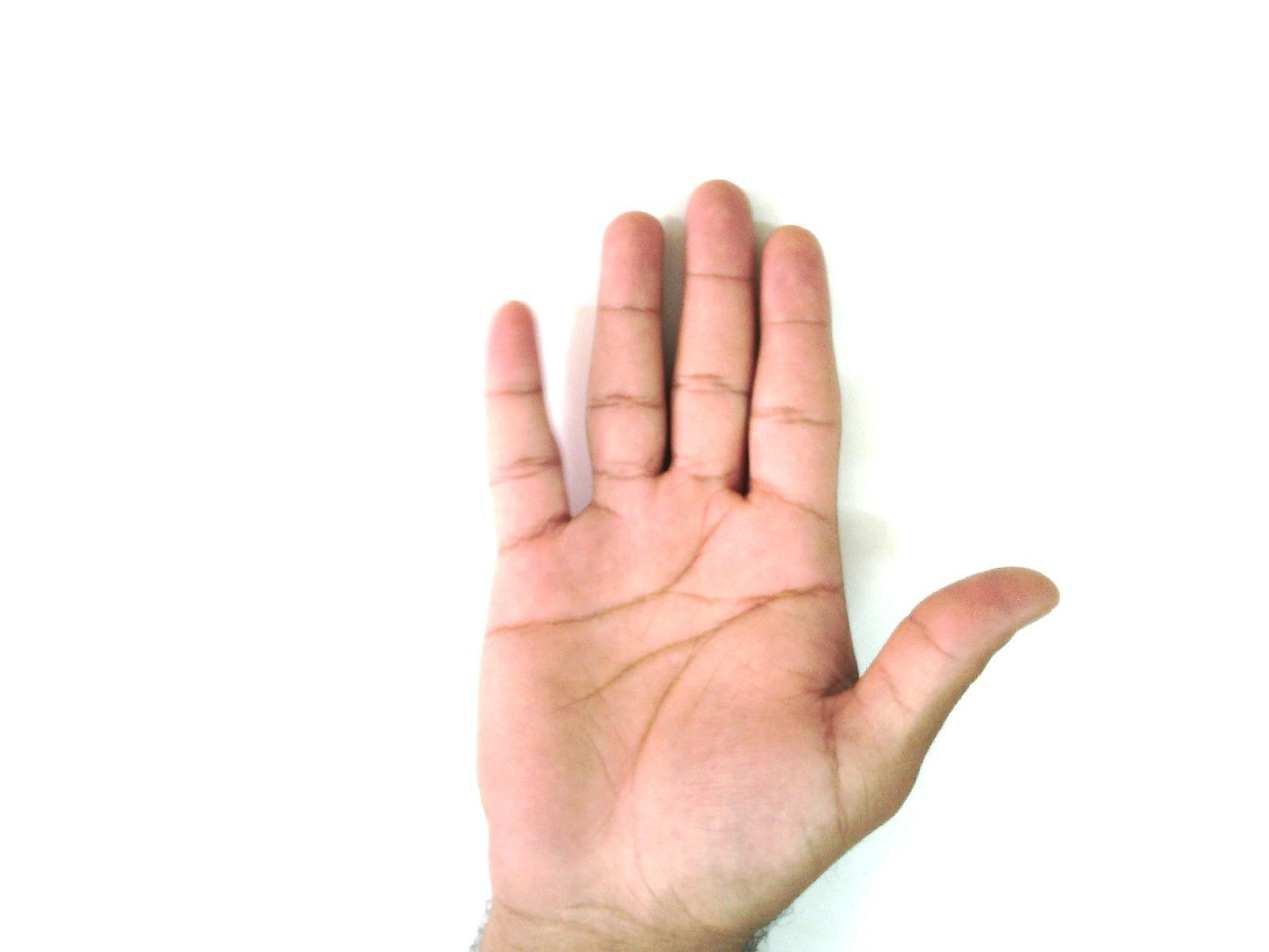open_palm: (469, 179, 1062, 950)
